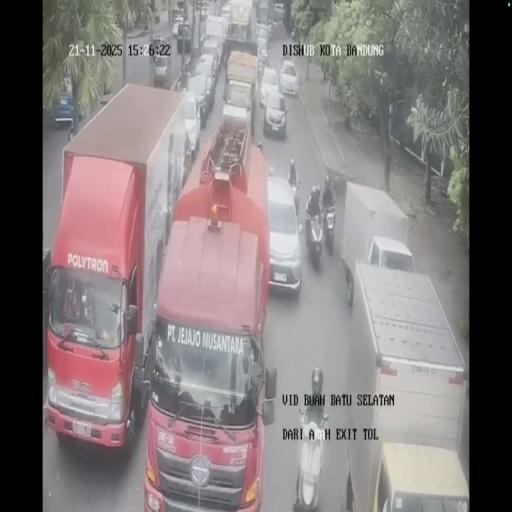car: (266, 174, 302, 294), (184, 70, 210, 133), (223, 82, 253, 134), (260, 65, 280, 109), (201, 40, 220, 80), (279, 58, 298, 97), (256, 34, 269, 68), (220, 4, 232, 28), (274, 2, 284, 19), (200, 4, 208, 21)
motorcycle: (322, 202, 336, 255), (291, 176, 301, 216)
truck: (46, 81, 192, 452), (152, 40, 170, 84), (255, 0, 272, 25)
